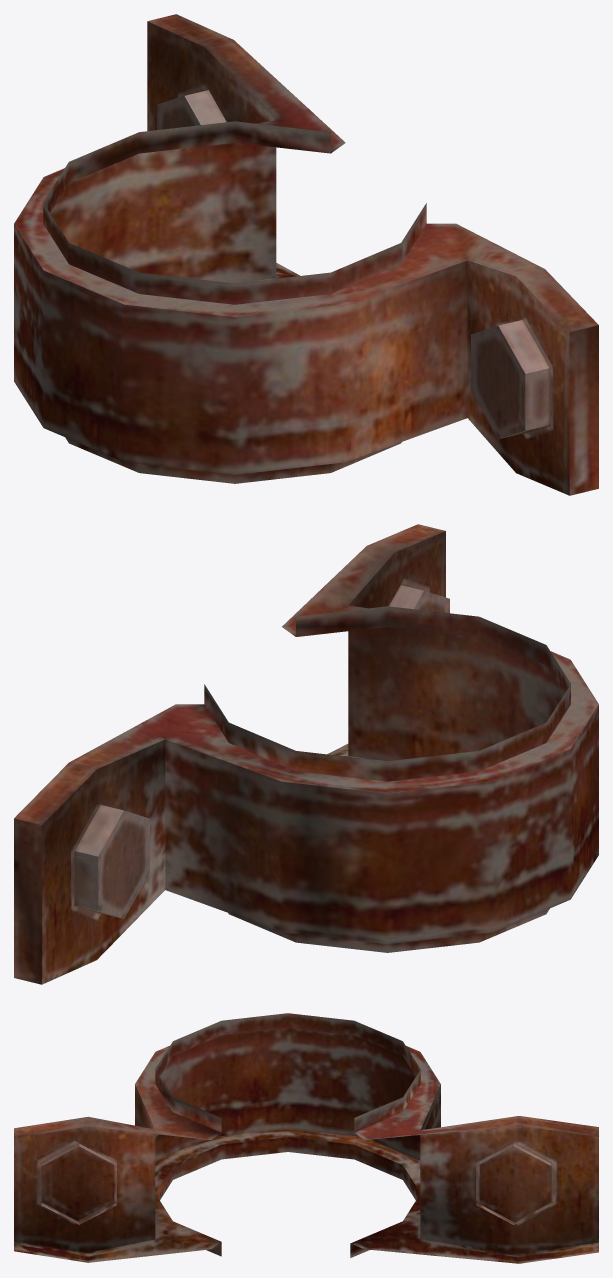
The model's file is stylized_pipe_02.glb.
The picture shows the model from 3 angles, top to bottom: view 1: azimuth 30°, elevation 25°; view 2: azimuth 150°, elevation 25°; view 3: azimuth 270°, elevation 25°; orthographic projection. The views are drawn at different scales.
Visible parts, largest first — view 1: stylized_pipe_02; view 2: stylized_pipe_02; view 3: stylized_pipe_02.
Boxes of the visible parts, <box> form: stylized_pipe_02: <box>14,14,598,495</box>; stylized_pipe_02: <box>14,524,598,984</box>; stylized_pipe_02: <box>14,1013,598,1263</box>.
Size of what is drawn, in the model's own units: 0.0895 by 0.048 by 0.1834.
1 material, 1 textured.
